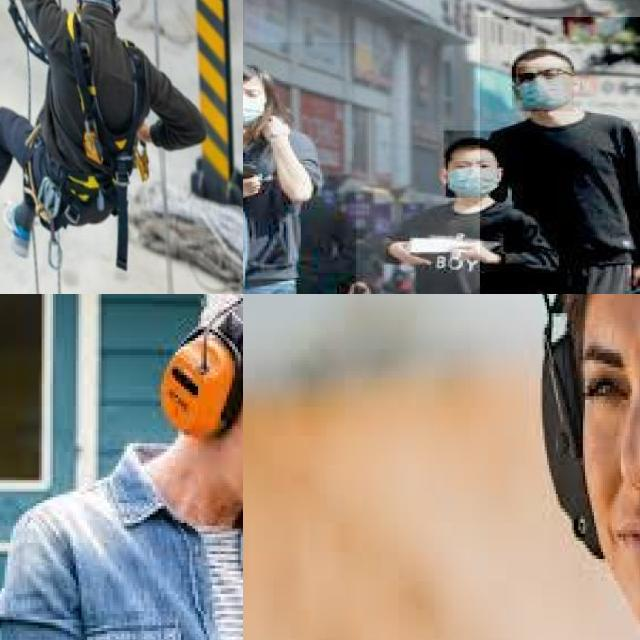Ear-protection: (155, 294, 243, 441)
Harness: (68, 12, 145, 270)
No_Glasses: (585, 318, 640, 426)
face_mask: (512, 66, 574, 112), (446, 158, 499, 198), (243, 86, 264, 126)
glasses: (508, 66, 572, 86)
head_nohelmet: (444, 130, 497, 158), (506, 44, 568, 64), (243, 58, 277, 81)
person: (479, 17, 640, 294), (243, 42, 358, 294), (384, 126, 546, 294)
